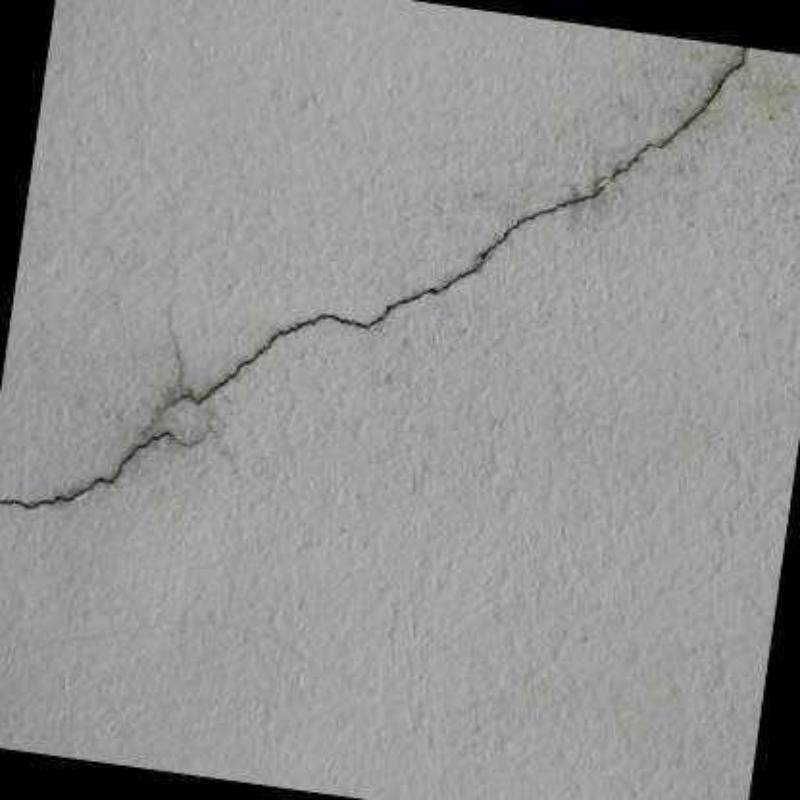crack: (172, 45, 757, 412), (3, 425, 173, 517), (148, 327, 185, 427), (169, 412, 217, 448)
